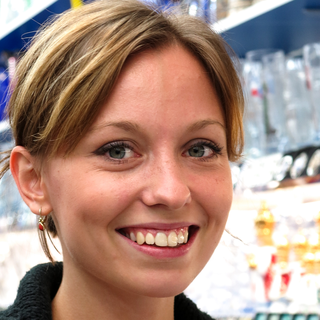eye: (91, 138, 143, 165), (178, 136, 225, 164)
